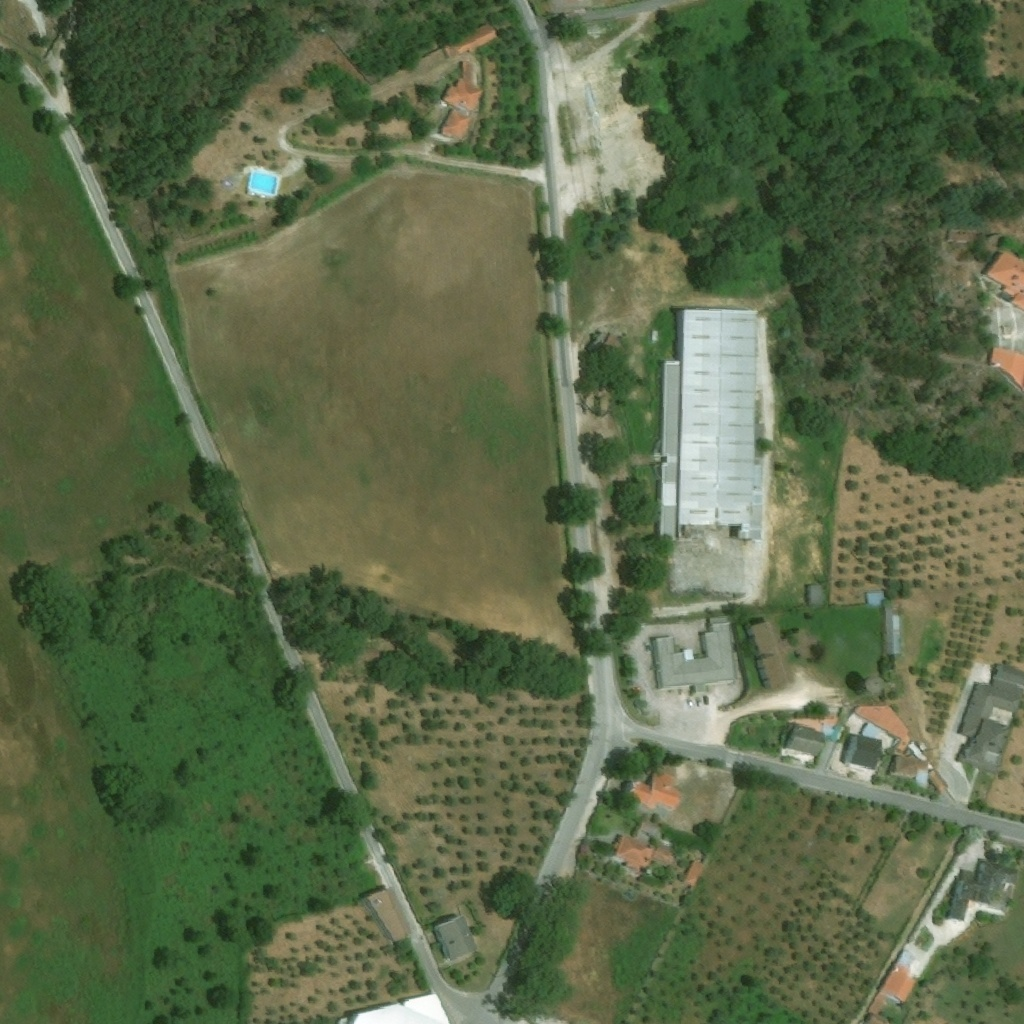0 no-damage: (660, 310, 760, 542), (955, 663, 1023, 775), (652, 616, 734, 689), (945, 859, 1017, 923), (337, 992, 451, 1023), (744, 620, 790, 689), (854, 705, 912, 751), (985, 250, 1023, 313), (367, 890, 411, 941), (629, 769, 682, 811), (434, 917, 477, 962), (445, 23, 497, 60), (613, 835, 654, 871), (881, 961, 916, 1003), (988, 349, 1023, 389), (845, 733, 882, 769), (445, 78, 484, 111), (786, 725, 826, 756), (591, 329, 628, 361), (439, 109, 473, 140), (882, 613, 901, 657), (892, 756, 928, 779), (684, 859, 704, 886), (869, 992, 888, 1015), (928, 770, 948, 791), (947, 229, 975, 243), (866, 589, 886, 607), (860, 724, 880, 739), (810, 585, 822, 604), (865, 1014, 890, 1023)
